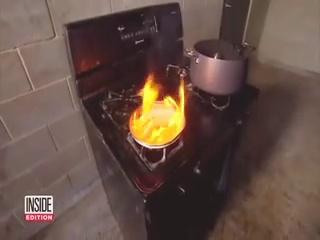Fire: (126, 69, 194, 153)
